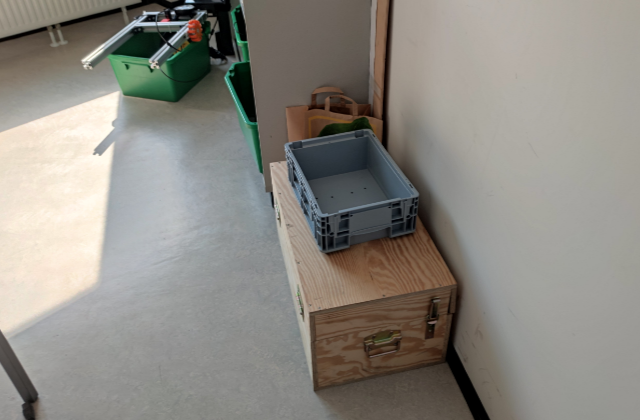Box: (284, 128, 421, 255)
